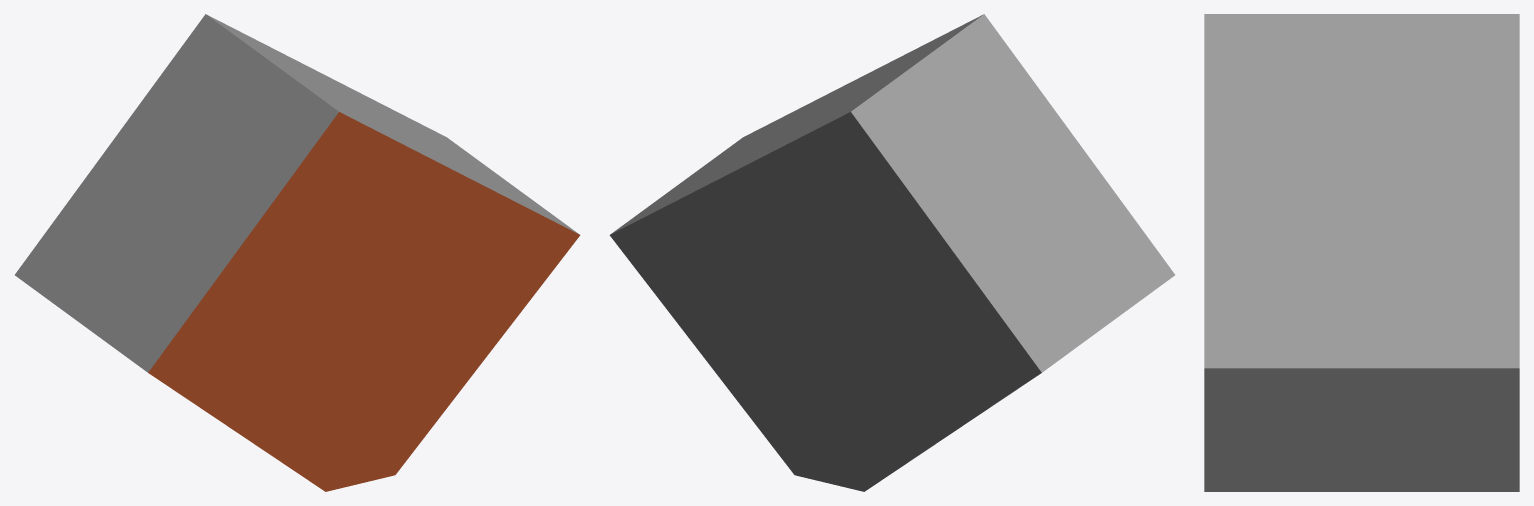
Rendered from construction_4087_assumed_A_Casa_h6m.obj.
3 renders of one model, left to right at view 1: azimuth 30°, elevation 25°; view 2: azimuth 150°, elevation 25°; view 3: azimuth 270°, elevation 25°, orthographic. The views are drawn at different scales.
Visible parts, largest first — view 1: construction_4087_assumed_A_Casa; view 2: construction_4087_assumed_A_Casa; view 3: construction_4087_assumed_A_Casa.
Part boxes in pixels (x1,y1,x2,y2): construction_4087_assumed_A_Casa: (15,14,580,491); construction_4087_assumed_A_Casa: (609,14,1174,491); construction_4087_assumed_A_Casa: (1204,14,1519,491).
Size of the model in its own units: 11.21 by 9.35 by 6.
